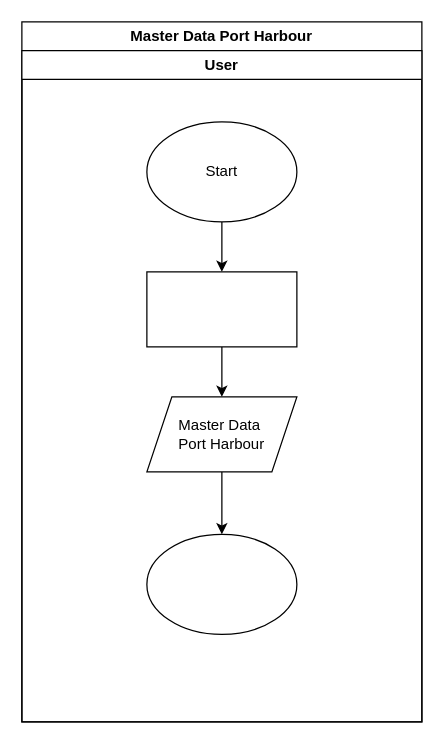
This 444x744 diagram has some shape labels left out. The box of each missing label's shape, as (x1, y1, x2, y2) in pixels:
Create Master Data Port Harbour: (146, 271, 297, 347)
End: (146, 533, 297, 634)
